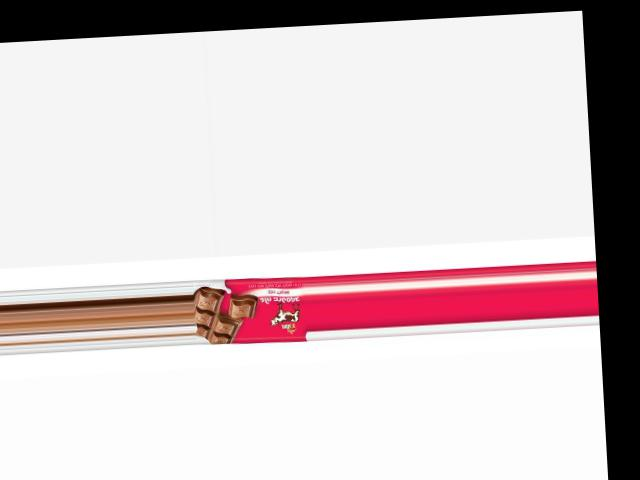chocolate: (193, 274, 308, 345)
